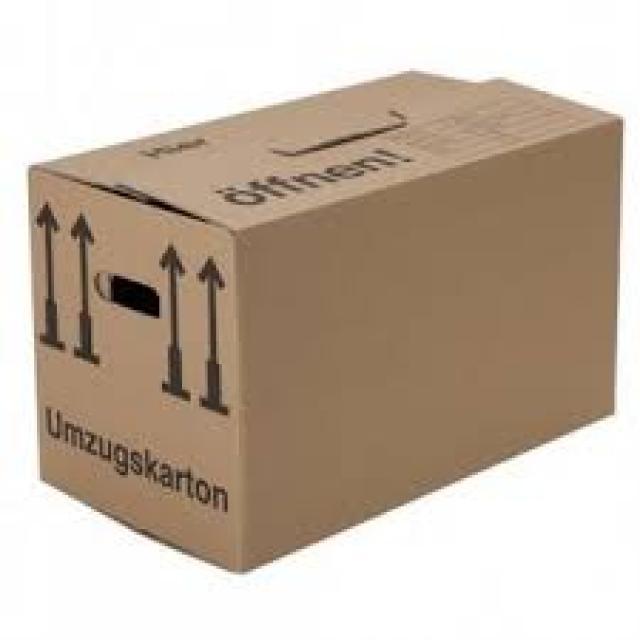Cardboard Paper: (16, 69, 632, 590)
